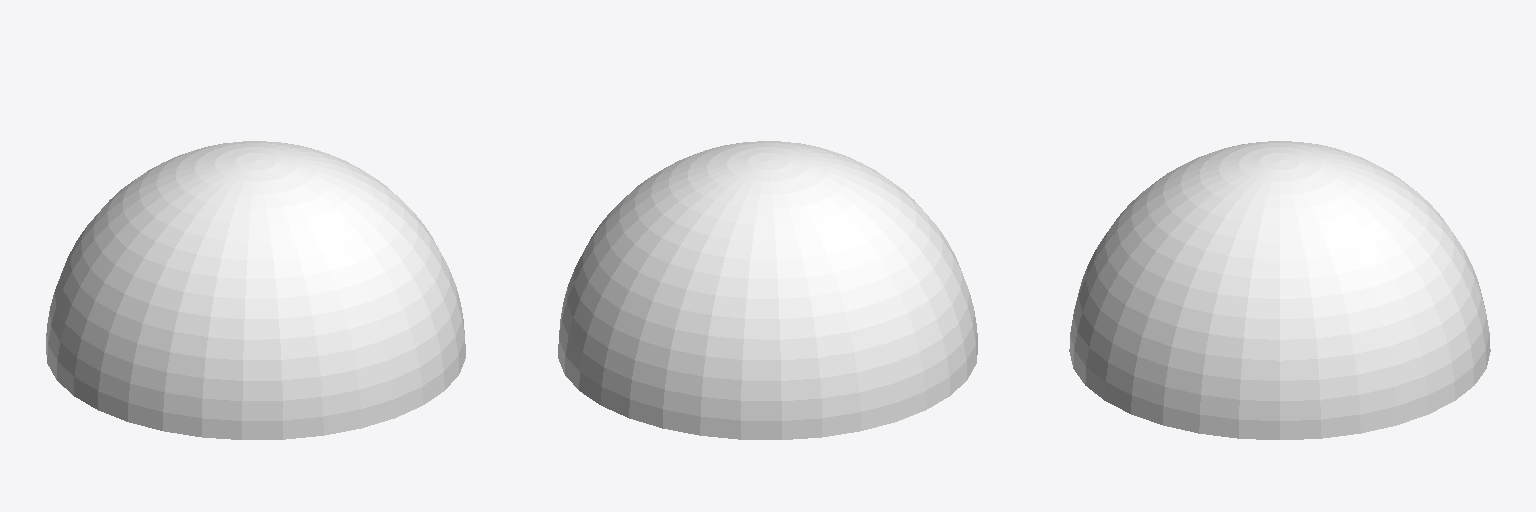
File: worldsky.obj
The picture shows the model from 3 angles: view 1: azimuth 30°, elevation 25°; view 2: azimuth 150°, elevation 25°; view 3: azimuth 270°, elevation 25°; orthographic projection.
Visible parts, largest first — view 1: worldsky; view 2: worldsky; view 3: worldsky.
Boxes of the visible parts, box(x1,y1,x2,y2) form: worldsky: box(46, 141, 465, 439); worldsky: box(558, 141, 977, 439); worldsky: box(1069, 141, 1490, 439).
Size of the model in its own units: 2 by 1 by 2.